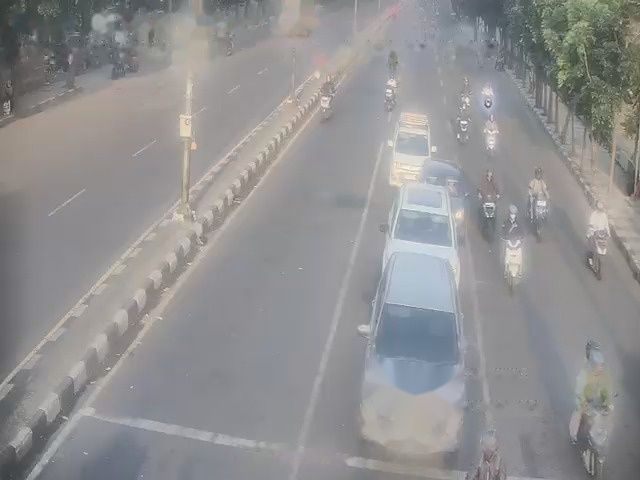Mobil: (366, 255, 461, 449), (389, 179, 457, 279), (390, 111, 434, 186)
Motor: (583, 406, 609, 475), (501, 239, 522, 294), (588, 226, 607, 276), (528, 195, 548, 231), (483, 189, 496, 234), (480, 126, 497, 156), (456, 111, 470, 143), (483, 94, 496, 114), (381, 90, 395, 104), (320, 97, 328, 120)
